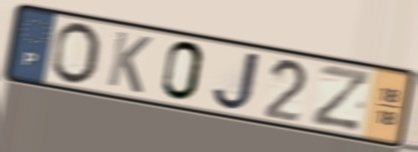0: (159, 40, 205, 104)
2: (260, 57, 313, 124)
J: (210, 49, 264, 112)
K: (104, 28, 155, 96)
O: (48, 20, 102, 87)
Z: (309, 61, 373, 133)
